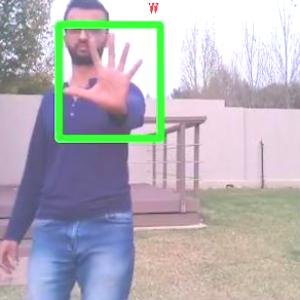follow_hand: (56, 25, 148, 121)
